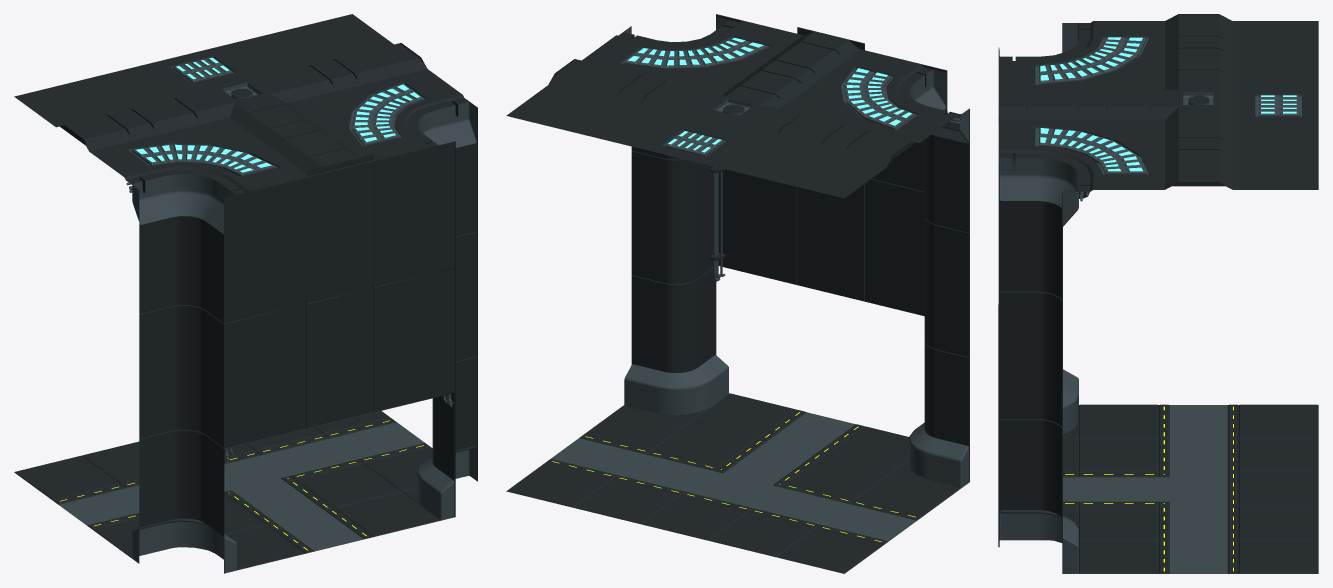
The model's file is hallCDouble90.fbx.
3 renders of one model, left to right at view 1: azimuth 30°, elevation 25°; view 2: azimuth 150°, elevation 25°; view 3: azimuth 270°, elevation 25°, orthographic. The views are drawn at different scales.
Visible parts, largest first — view 1: hallСDouble90; view 2: hallСDouble90; view 3: hallСDouble90.
Boxes of the visible parts, x1=… form: hallСDouble90: x1=14, y1=14, x2=477, y2=573; hallСDouble90: x1=506, y1=14, x2=969, y2=573; hallСDouble90: x1=998, y1=14, x2=1318, y2=573.
Size of what is drawn, in the model's own units: 10 by 8.02 by 10.81.
